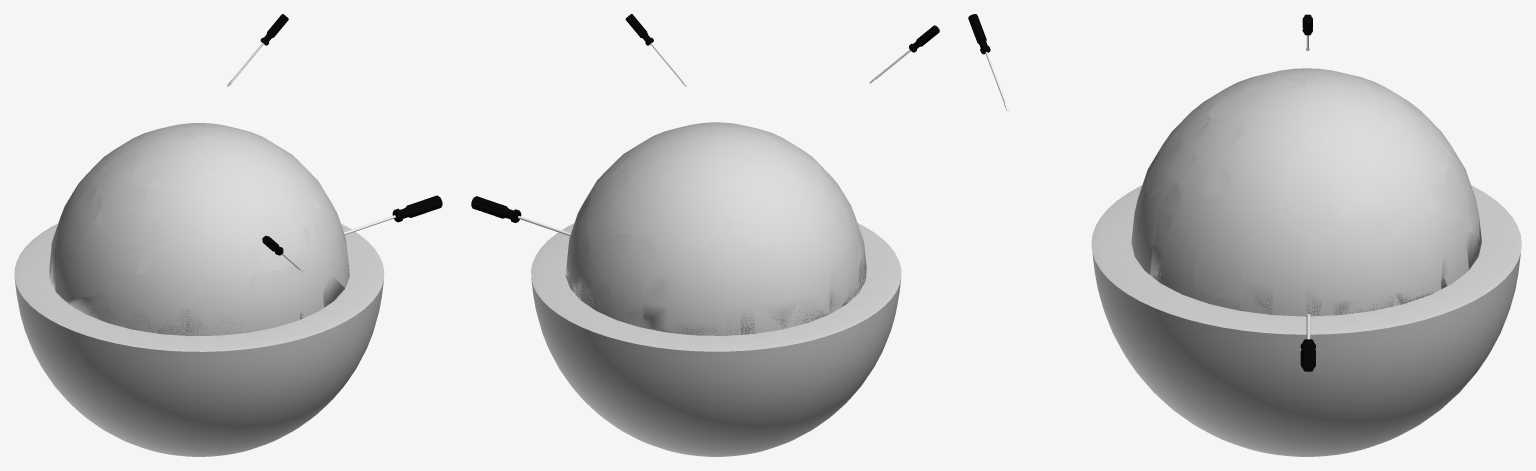
Rendered from demon_core.glb.
3 renders of one model, left to right at view 1: azimuth 30°, elevation 25°; view 2: azimuth 150°, elevation 25°; view 3: azimuth 270°, elevation 25°, orthographic. The views are drawn at different scales.
Parts seen in each view (by area): view 1: mouse-intersector, core_base, demon-fractured_cell.032, demon-fractured_cell.095, demon-fractured_cell.070, demon-fractured_cell.038, demon-fractured_cell.040, demon-fractured_cell, demon-fractured_cell.019, screwdriver, demon-fractured_cell.044, demon-fractured_cell.079 (+11 smaller); view 2: mouse-intersector, core_base, demon-fractured_cell.021, demon-fractured_cell.032, demon-fractured_cell.031, demon-fractured_cell.076, demon-fractured_cell.089, demon-fractured_cell.050, demon-fractured_cell.012, demon-fractured_cell.094, demon-fractured_cell.099, screwdriver (+9 smaller); view 3: mouse-intersector, core_base, demon-fractured_cell.089, demon-fractured_cell.018, demon-fractured_cell.090, demon-fractured_cell.060, demon-fractured_cell.020, demon-fractured_cell.021, demon-fractured_cell.013, demon-fractured_cell.097, demon-fractured_cell.033, demon-fractured_cell.010 (+10 smaller).
Boxes of the visible parts, bbox=[...] form: mouse-intersector: bbox=[49, 123, 349, 335]; core_base: bbox=[14, 223, 384, 456]; demon-fractured_cell.032: bbox=[54, 187, 103, 279]; demon-fractured_cell.095: bbox=[252, 214, 301, 271]; demon-fractured_cell.070: bbox=[247, 266, 302, 311]; demon-fractured_cell.038: bbox=[217, 187, 260, 251]; demon-fractured_cell.040: bbox=[132, 212, 160, 274]; demon-fractured_cell: bbox=[100, 183, 146, 220]; demon-fractured_cell.019: bbox=[209, 153, 253, 192]; screwdriver: bbox=[344, 195, 442, 234]; demon-fractured_cell.044: bbox=[106, 272, 167, 332]; demon-fractured_cell.079: bbox=[206, 235, 253, 269]; mouse-intersector: bbox=[565, 122, 866, 335]; core_base: bbox=[531, 223, 901, 456]; demon-fractured_cell.021: bbox=[587, 233, 660, 310]; demon-fractured_cell.032: bbox=[782, 202, 832, 306]; demon-fractured_cell.031: bbox=[630, 274, 679, 331]; demon-fractured_cell.076: bbox=[739, 286, 799, 334]; demon-fractured_cell.089: bbox=[586, 172, 630, 241]; demon-fractured_cell.050: bbox=[738, 246, 800, 288]; demon-fractured_cell.012: bbox=[683, 194, 734, 251]; demon-fractured_cell.094: bbox=[736, 204, 786, 252]; demon-fractured_cell.099: bbox=[824, 224, 860, 315]; screwdriver: bbox=[471, 196, 570, 236]; mouse-intersector: bbox=[1131, 68, 1481, 316]; core_base: bbox=[1091, 185, 1521, 456]; demon-fractured_cell.089: bbox=[1363, 145, 1436, 219]; demon-fractured_cell.018: bbox=[1277, 163, 1327, 240]; demon-fractured_cell.090: bbox=[1242, 229, 1323, 315]; demon-fractured_cell.060: bbox=[1193, 231, 1245, 300]; demon-fractured_cell.020: bbox=[1324, 166, 1370, 228]; demon-fractured_cell.021: bbox=[1437, 155, 1478, 234]; demon-fractured_cell.013: bbox=[1178, 144, 1227, 195]; demon-fractured_cell.097: bbox=[1312, 208, 1405, 268]; demon-fractured_cell.033: bbox=[1390, 220, 1442, 291]; demon-fractured_cell.010: bbox=[1141, 185, 1181, 245].
Bounding box in the file's own units: 3.08 × 2.96 × 3.16.
Materials: 2 (1 with a texture image).
